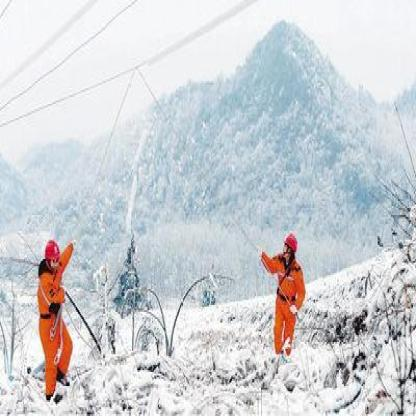helmet: (43, 240, 61, 270), (283, 229, 298, 261)
person: (34, 240, 86, 398), (262, 227, 312, 367)
